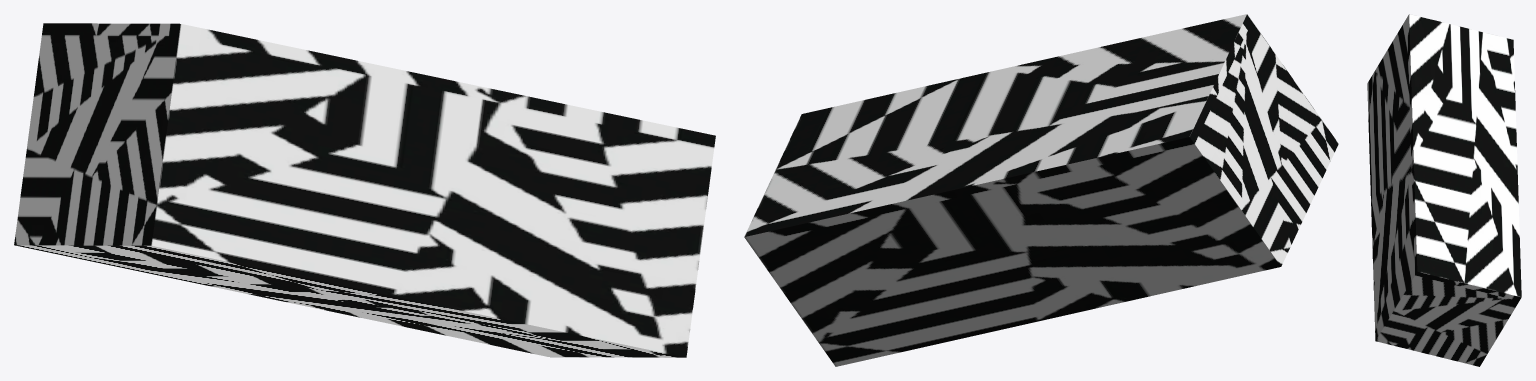
The picture shows the model from 3 angles, left to right: view 1: azimuth 30°, elevation 25°; view 2: azimuth 150°, elevation 25°; view 3: azimuth 270°, elevation 25°; orthographic projection. The views are drawn at different scales.
Visible parts, largest first — view 1: Cube.030; view 2: Cube.030; view 3: Cube.030.
Part boxes in pixels (x1=…): Cube.030: x1=14, y1=23, x2=715, y2=357; Cube.030: x1=744, y1=14, x2=1338, y2=366; Cube.030: x1=1367, y1=14, x2=1521, y2=366.
Bounding box in the file's own units: 6.65 × 4.83 × 2.75.
Materials: 1 (1 with a texture image).
